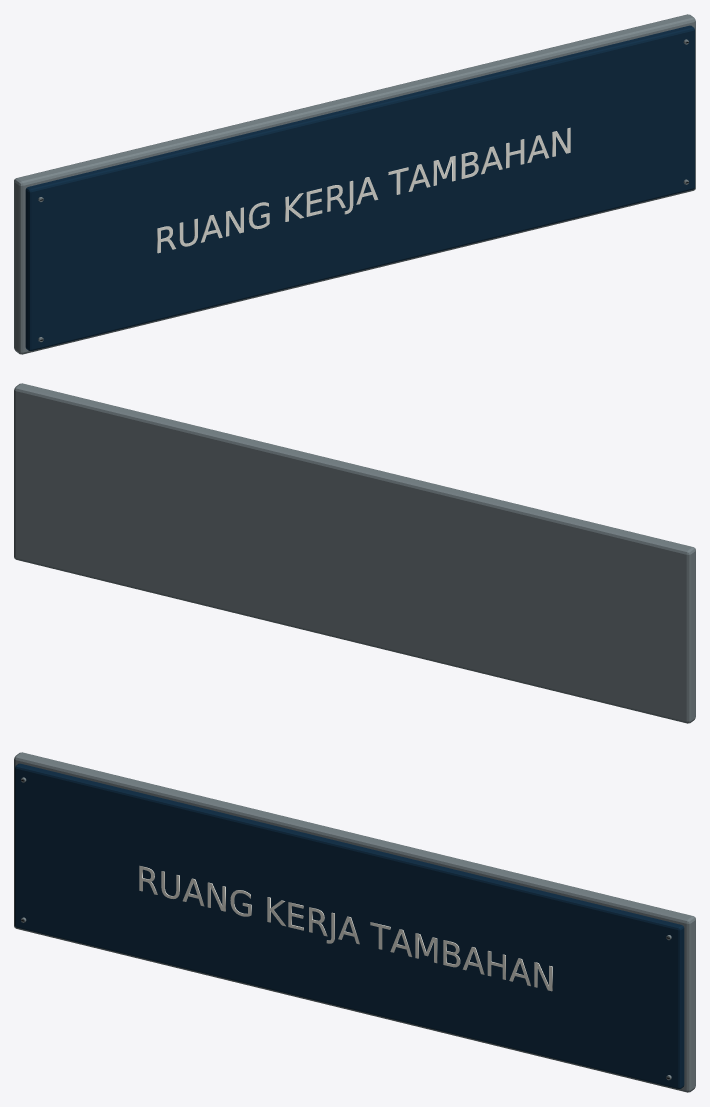
The model's file is OAA_Papan_Ruang_Ruang_Kerja_Tambahan.fbx.
3 renders of one model, top to bottom at view 1: azimuth 30°, elevation 25°; view 2: azimuth 150°, elevation 25°; view 3: azimuth 330°, elevation 25°, orthographic.
Parts seen in each view (by area): view 1: Body; view 2: Body; view 3: Body.
Boxes of the visible parts, <box> form: Body: <box>14,14,695,354</box>; Body: <box>14,383,695,723</box>; Body: <box>14,752,695,1092</box>.
Size of the model in its own units: 0.9 by 0.22 by 0.0312.
